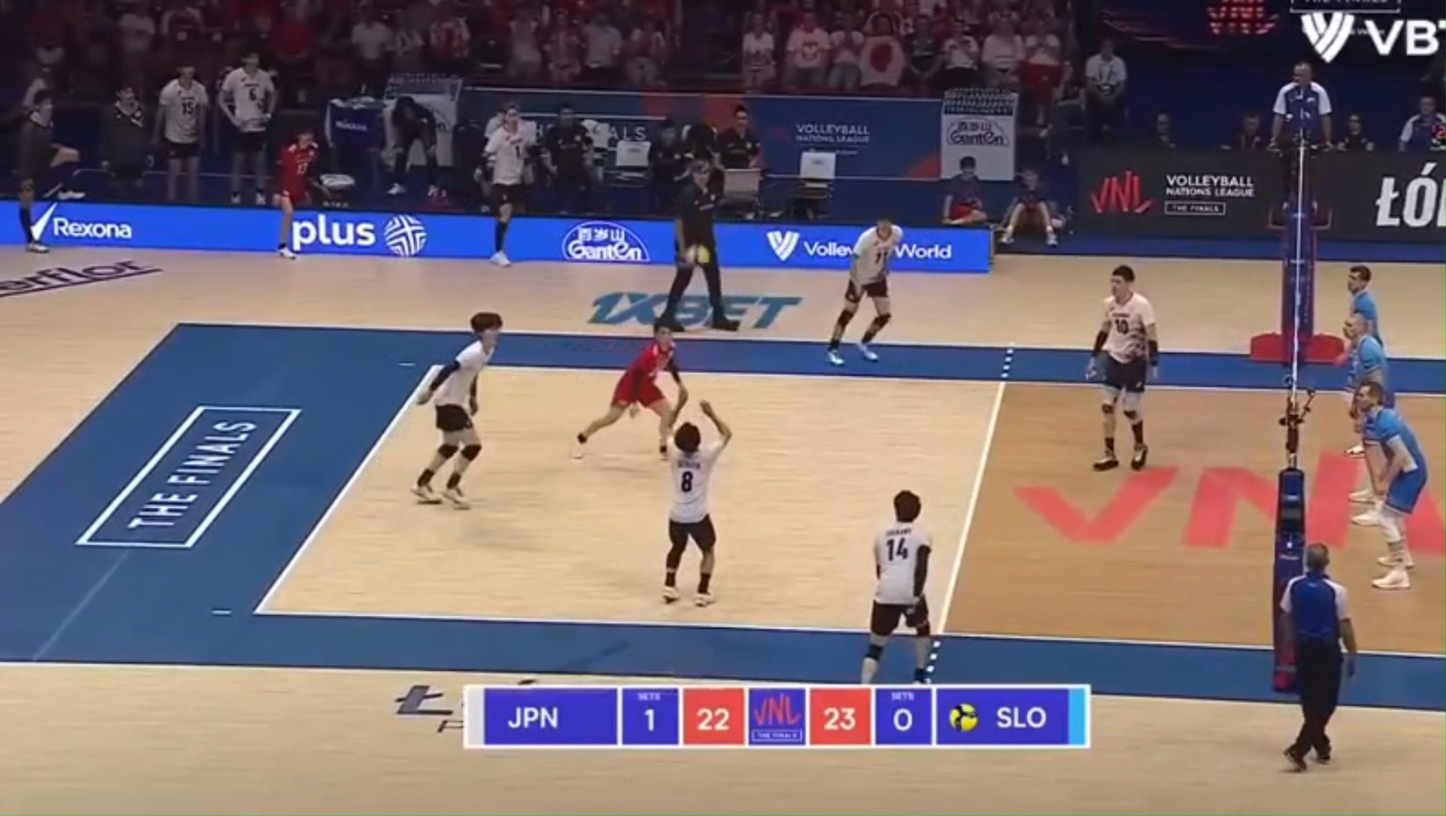ball: (684, 244, 710, 265)
player: (1355, 382, 1428, 589), (1345, 314, 1386, 387), (1348, 264, 1380, 340)
player 1: (413, 311, 502, 508), (576, 320, 687, 457), (1089, 265, 1159, 471), (860, 490, 932, 684), (663, 401, 731, 606), (827, 218, 903, 363)
referee: (1279, 542, 1357, 771), (664, 162, 737, 329), (1271, 61, 1333, 227)
